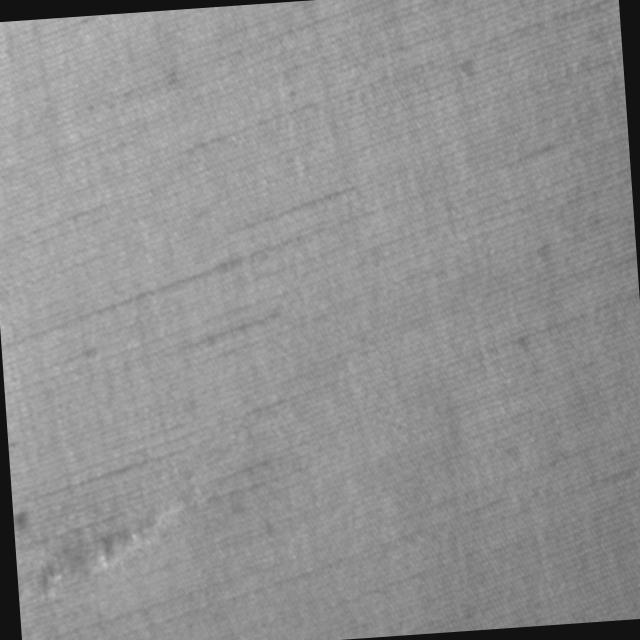thread error: (12, 480, 208, 605)
